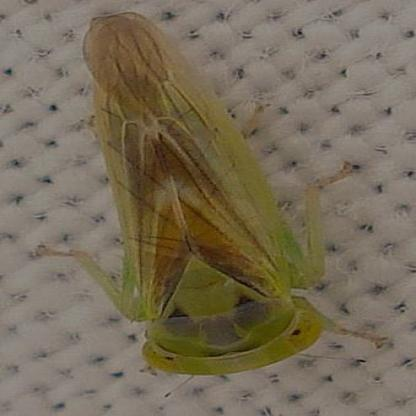green-leafhopper: (80, 16, 348, 372)
